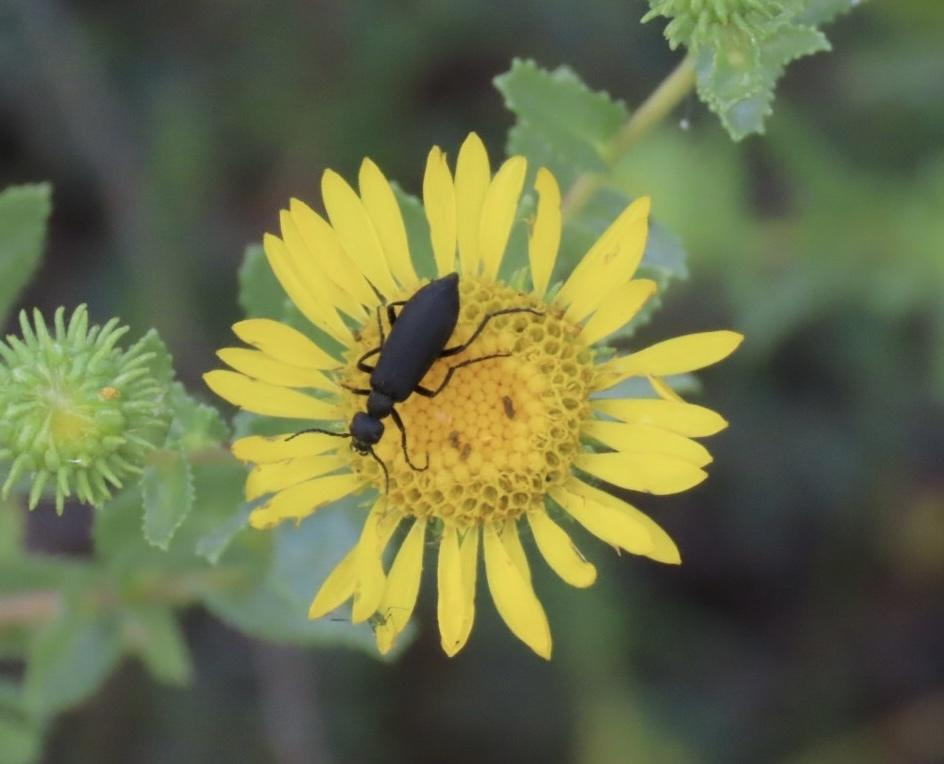blister_beetle: (255, 244, 564, 517)
